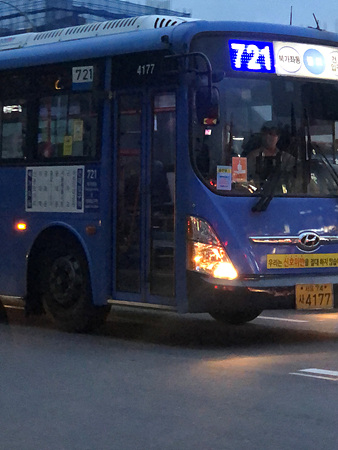bnum: (229, 39, 274, 71)
